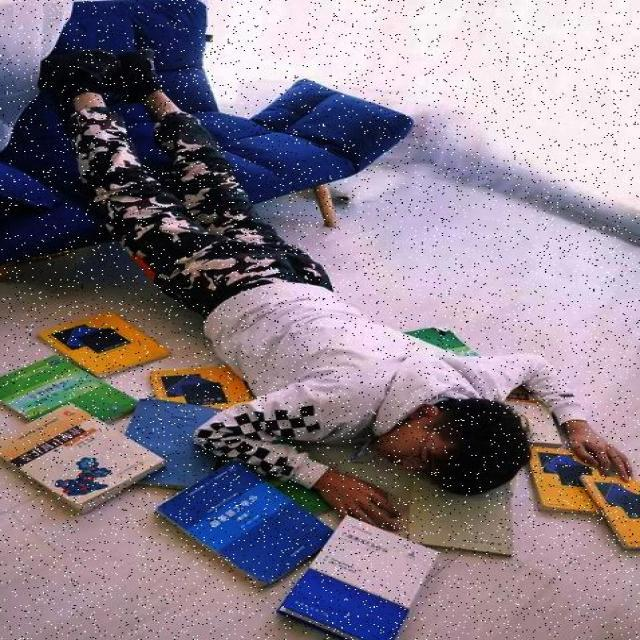fall: (61, 74, 600, 492)
